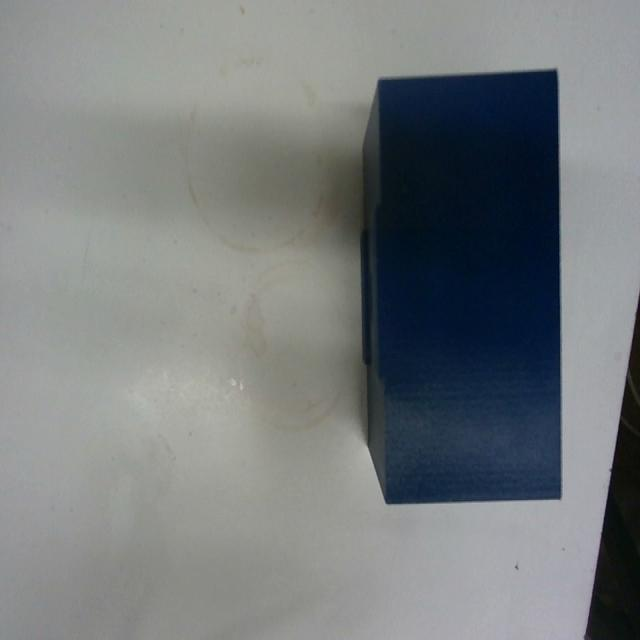Blue Cuboid: (357, 66, 563, 506)
